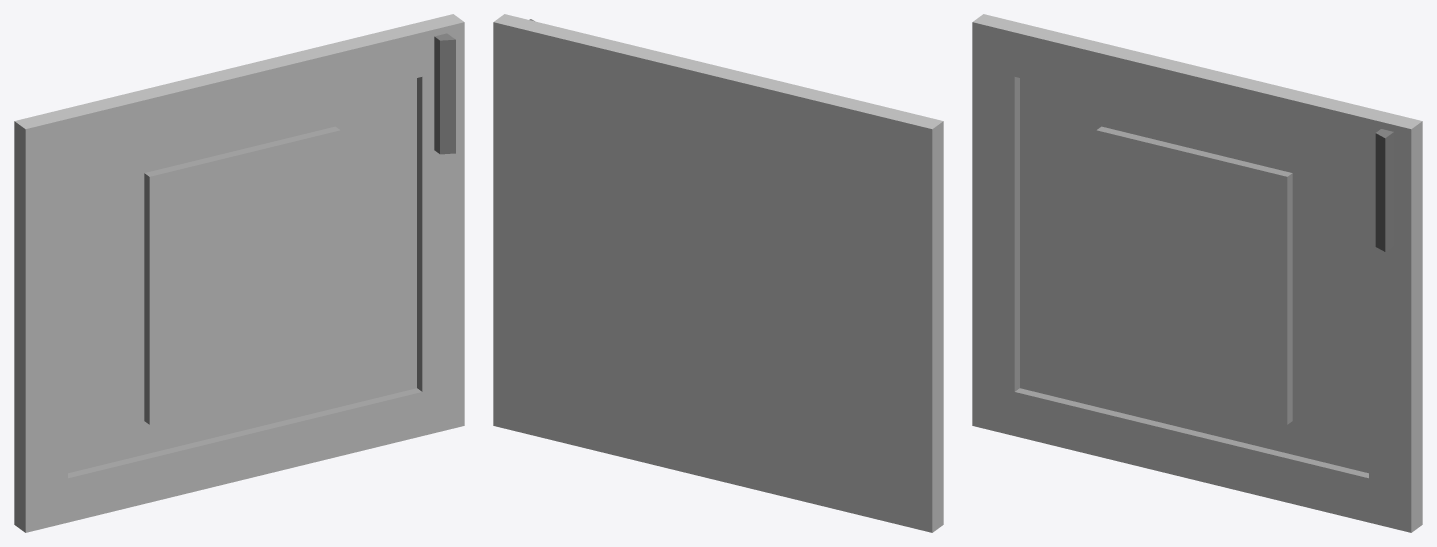
The model's file is Counter Door 1.fbx.
3 renders of one model, left to right at view 1: azimuth 30°, elevation 25°; view 2: azimuth 150°, elevation 25°; view 3: azimuth 330°, elevation 25°, orthographic.
Visible parts, largest first — view 1: Counter Door 1; view 2: Counter Door 1; view 3: Counter Door 1.
Part boxes in pixels (box(x1,y1,x2,y2)): Counter Door 1: box(14, 14, 464, 532); Counter Door 1: box(493, 14, 943, 532); Counter Door 1: box(972, 14, 1422, 532).
Size of the model in its own units: 94.56 by 83.09 by 7.4.
